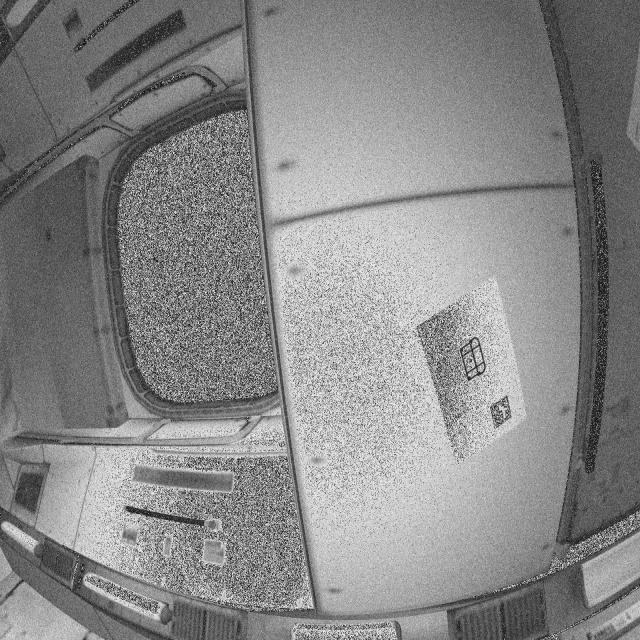treasure_box: (456, 340, 493, 380)
